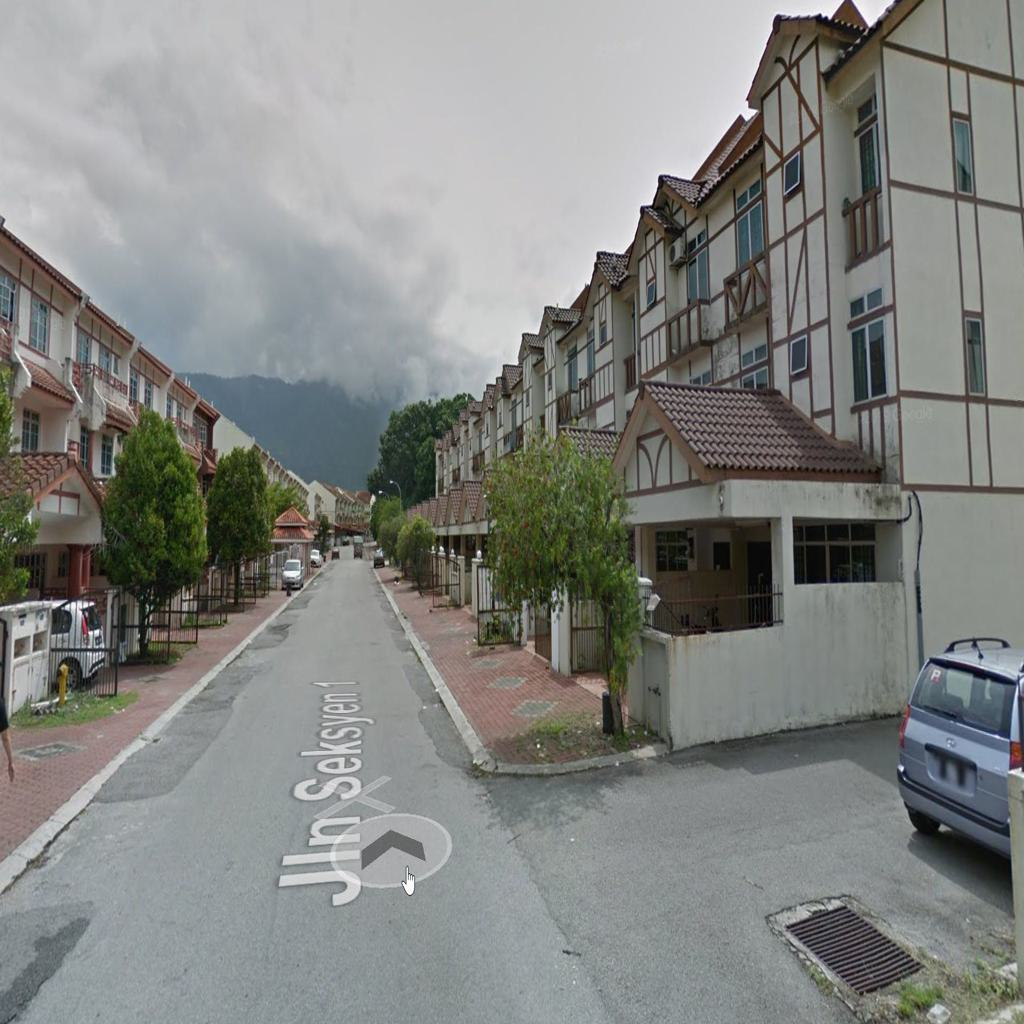Junction: (438, 712, 1015, 1024)
